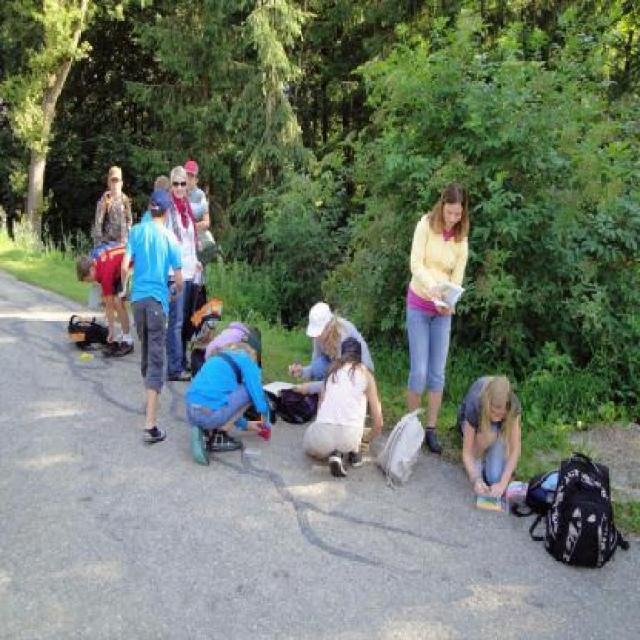backpack: (542, 446, 628, 572), (376, 406, 430, 489)
